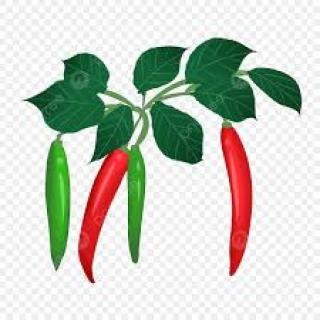Cabai Hijau: (45, 136, 72, 272), (132, 147, 146, 263)
Cabai Merah: (77, 148, 133, 285), (221, 126, 255, 279)
